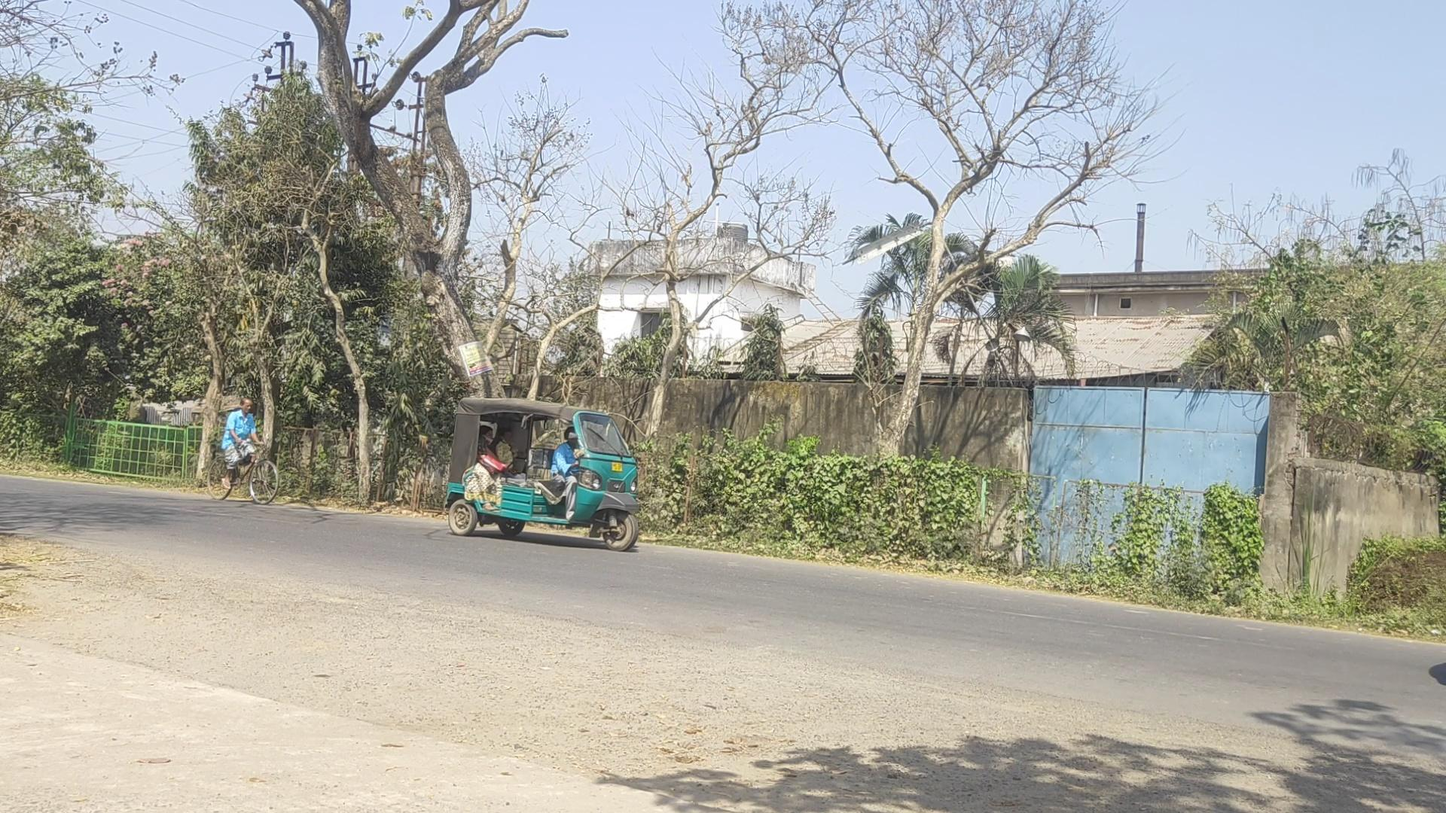Auto: (444, 397, 642, 551)
bike: (206, 398, 279, 504)
